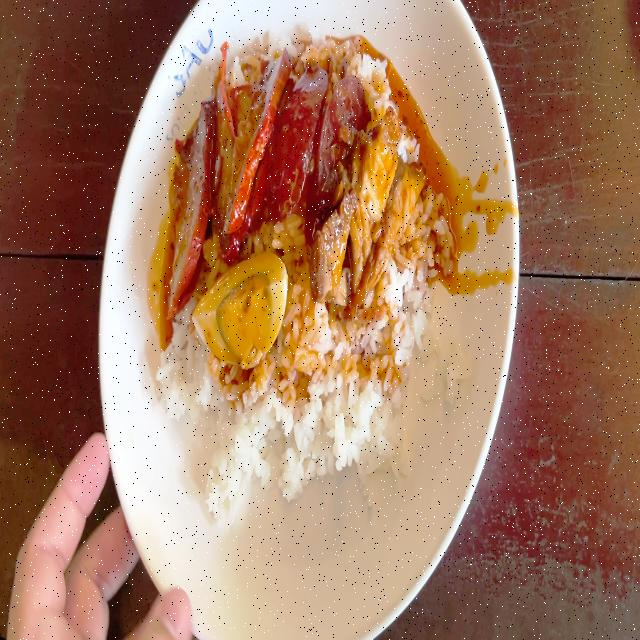boiled_egg: (201, 262, 287, 356)
chainese_sausage: (270, 73, 356, 215)
crispy_pork: (323, 123, 427, 306)
red_pork: (162, 103, 210, 304), (213, 41, 254, 232)
red_pork_and_crispy_pork: (164, 47, 416, 486)
rice: (168, 353, 385, 493), (386, 265, 409, 387)
